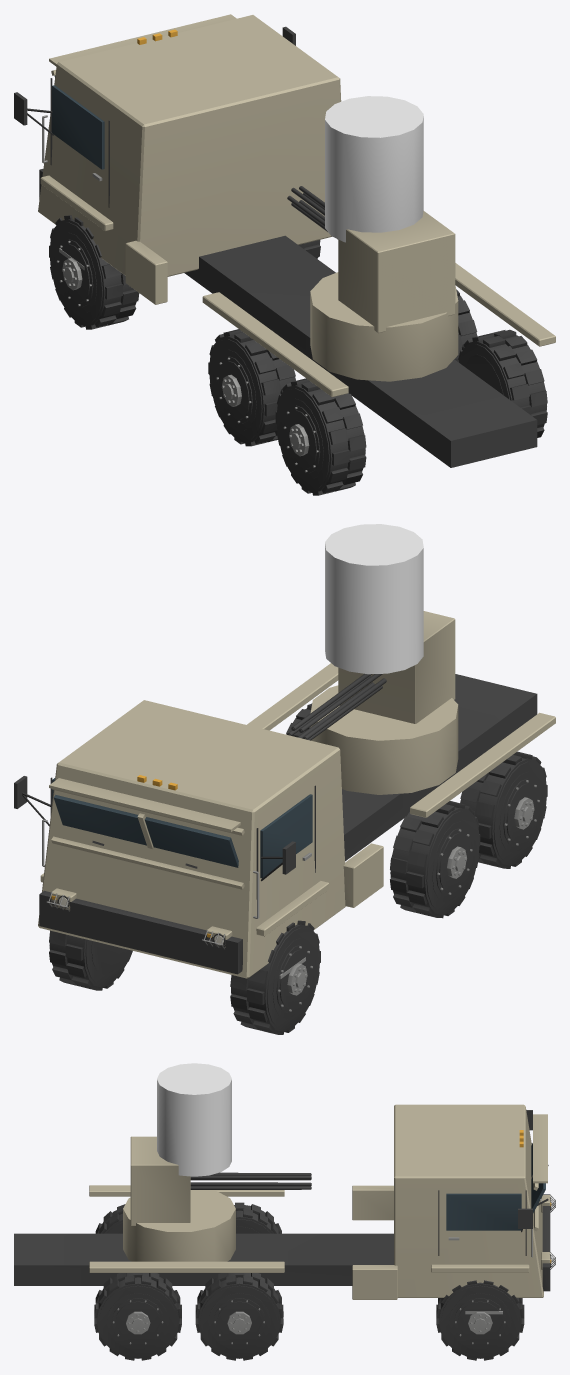
File: usa_aa_cram.glb
3 views of the same model, one above another, from view 1: azimuth 30°, elevation 25°; view 2: azimuth 150°, elevation 25°; view 3: azimuth 270°, elevation 25° (orthographic). The views are drawn at different scales.
Parts seen in each view (by area): view 1: body, turret, barrel, wheel_4, wheel_2, wheel_0, wheel_5, wheel_3; view 2: body, barrel, turret, wheel_2, wheel_4, wheel_0, wheel_1; view 3: body, turret, barrel, wheel_3, wheel_5, wheel_1, wheel_2, wheel_4.
Boxes of the visible parts, bbox=[...] form: body: bbox=[14, 14, 555, 467]; turret: bbox=[310, 211, 458, 381]; barrel: bbox=[287, 96, 423, 242]; wheel_4: bbox=[275, 376, 366, 495]; wheel_2: bbox=[208, 329, 295, 446]; wheel_0: bbox=[49, 215, 139, 329]; wheel_5: bbox=[458, 329, 547, 437]; wheel_3: bbox=[454, 289, 477, 362]; body: bbox=[14, 663, 555, 978]; barrel: bbox=[287, 524, 423, 740]; turret: bbox=[310, 611, 458, 794]; wheel_2: bbox=[390, 798, 480, 918]; wheel_4: bbox=[460, 751, 547, 868]; wheel_0: bbox=[230, 920, 320, 1034]; wheel_1: bbox=[49, 930, 132, 990]; body: bbox=[14, 1104, 555, 1314]; turret: bbox=[123, 1136, 235, 1261]; barrel: bbox=[157, 1063, 311, 1189]; wheel_3: bbox=[195, 1273, 283, 1360]; wheel_5: bbox=[94, 1273, 181, 1360]; wheel_1: bbox=[436, 1280, 524, 1360]; wheel_2: bbox=[234, 1202, 281, 1233]; wheel_4: bbox=[95, 1204, 125, 1233].
Bounding box in the file's own units: 3.15 × 3.55 × 7.21.
